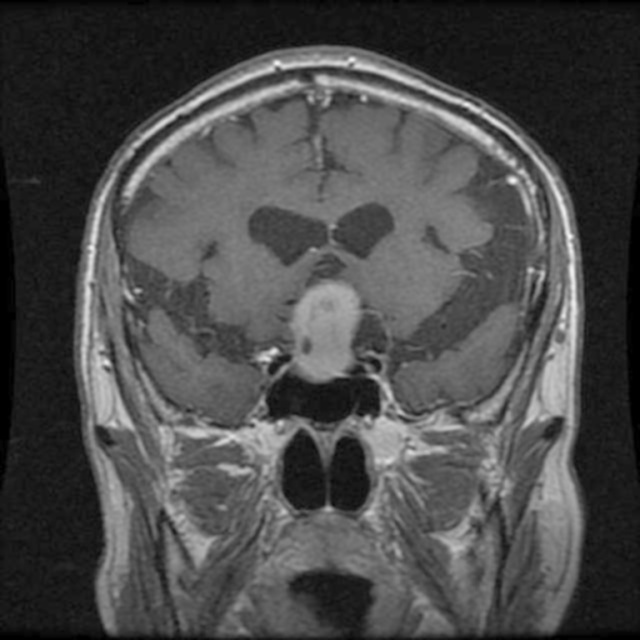no tumor: (288, 278, 362, 374)
